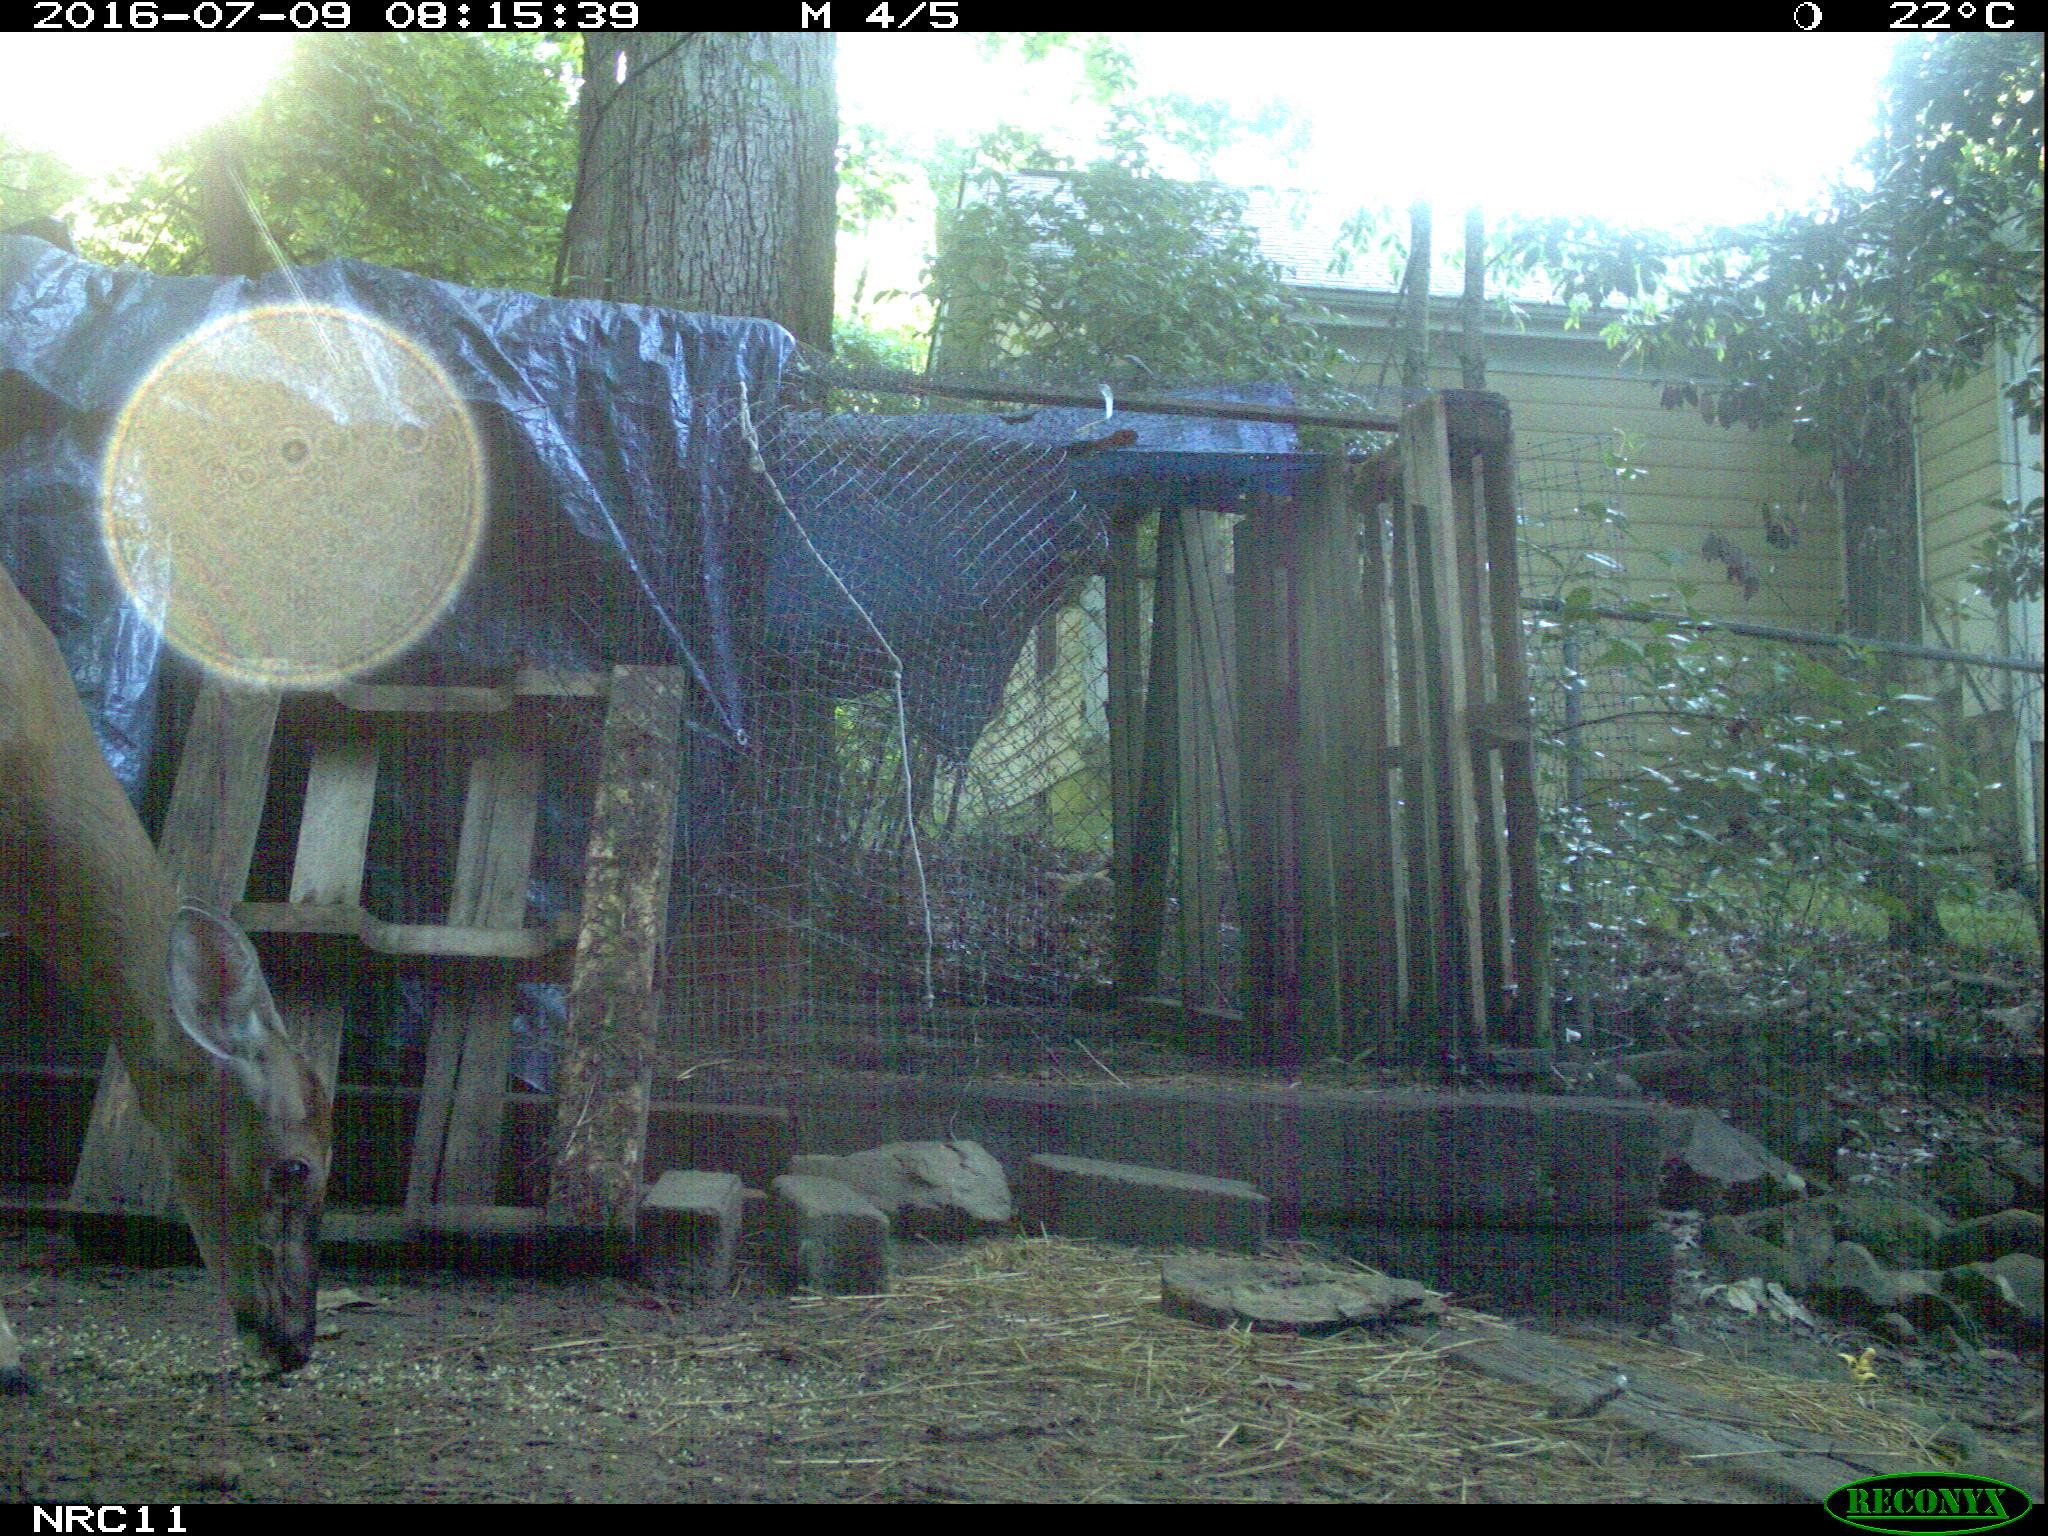Animal: (2, 563, 335, 1375)
